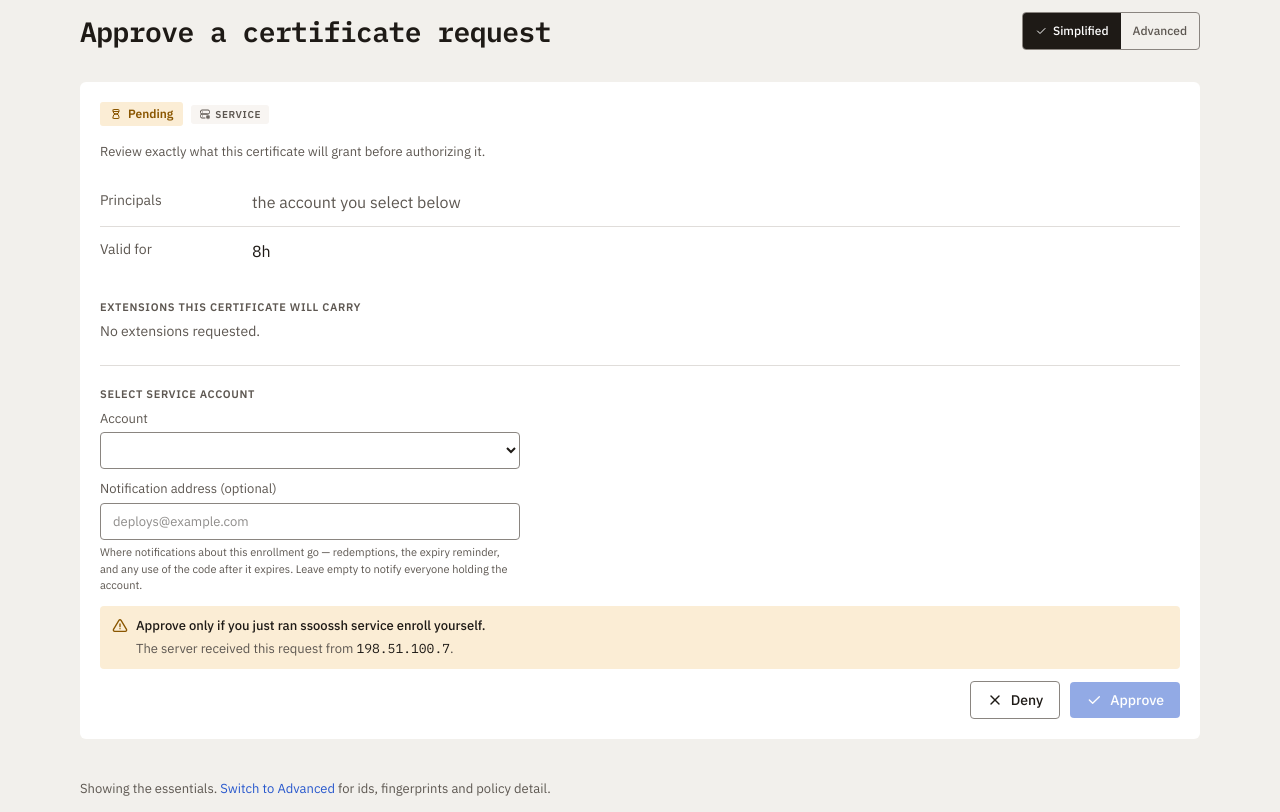
after a decision goes through › should show enrolled on the badge after approve-button on a service request
Select "svc-deploy" in the dropdown with test id "service-account-select" at [310, 450], box x1=100 y1=432 x2=520 y2=469
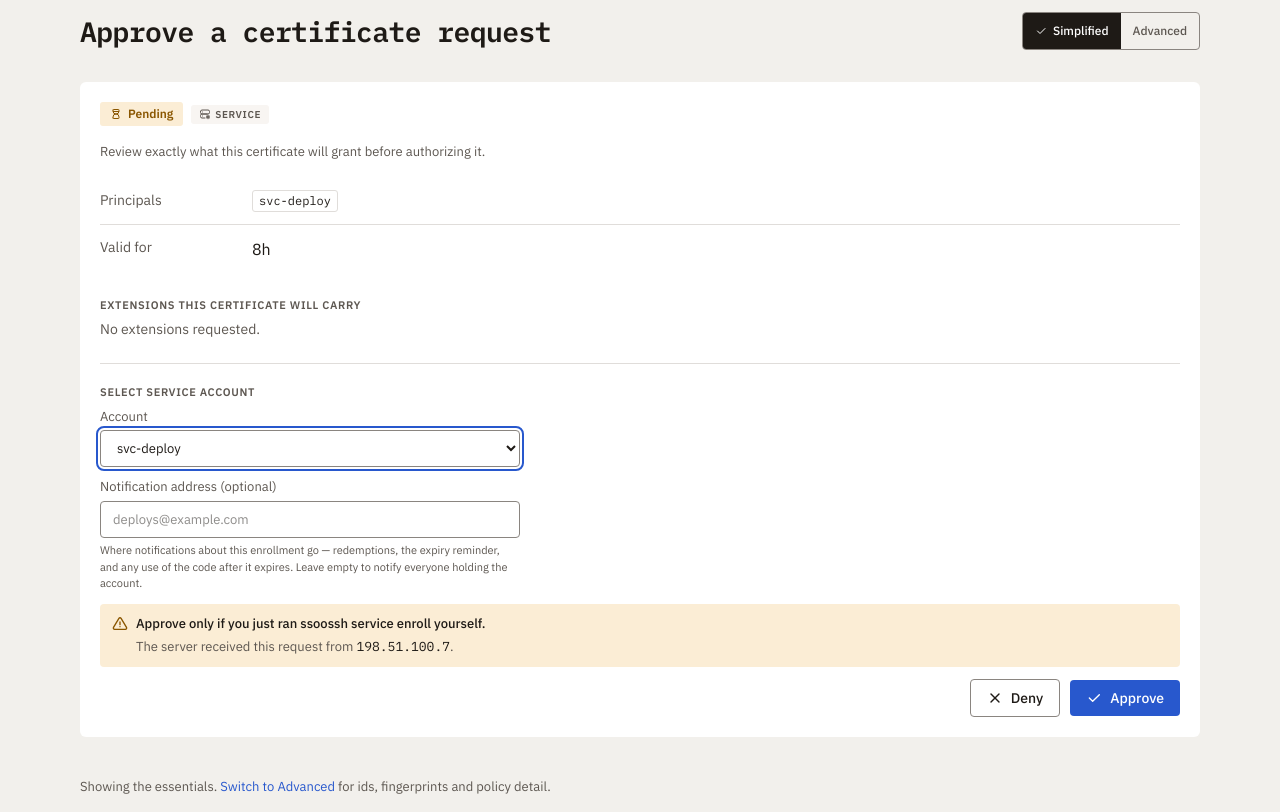
Click the button with test id "approve-button" at [1125, 698], box x1=1070 y1=680 x2=1180 y2=716
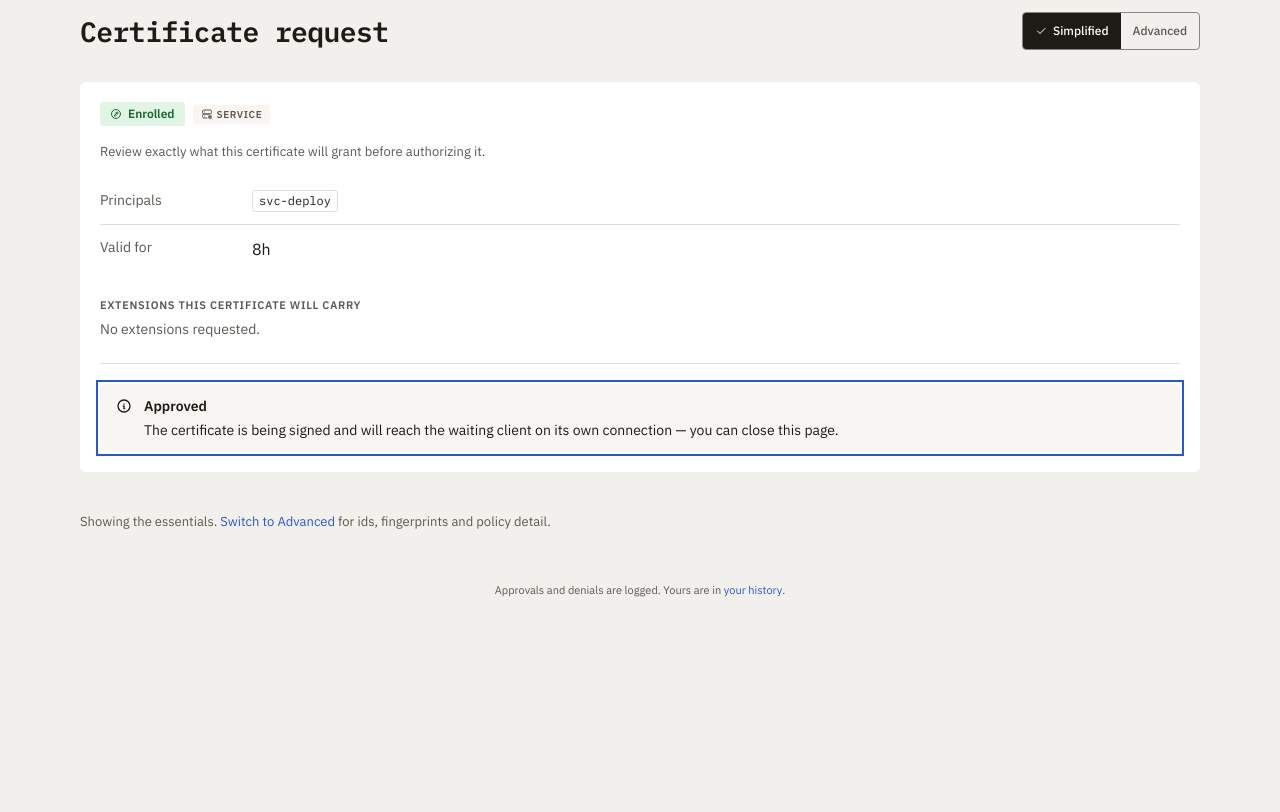
Now the element with test id "request-status" reads "enrolled", box x1=128 y1=106 x2=174 y2=121
